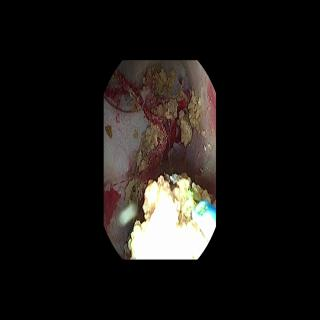fiber: (191, 201, 214, 239)
stone: (127, 173, 212, 254), (145, 68, 186, 119), (137, 124, 163, 169), (187, 90, 202, 132), (125, 178, 143, 210), (177, 110, 192, 145), (105, 126, 112, 137)
